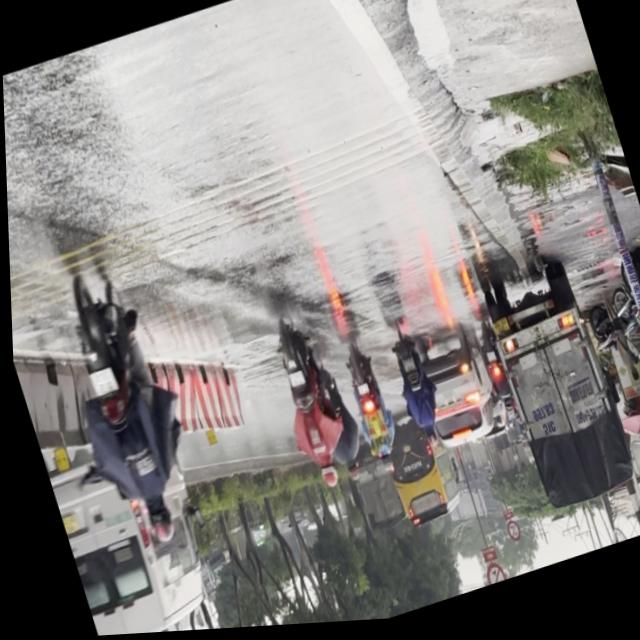helmet: (137, 499, 174, 549), (313, 464, 336, 494)
licenseplate: (37, 255, 209, 564), (255, 313, 359, 503)
nohelmet: (85, 369, 115, 399), (284, 374, 302, 392)
